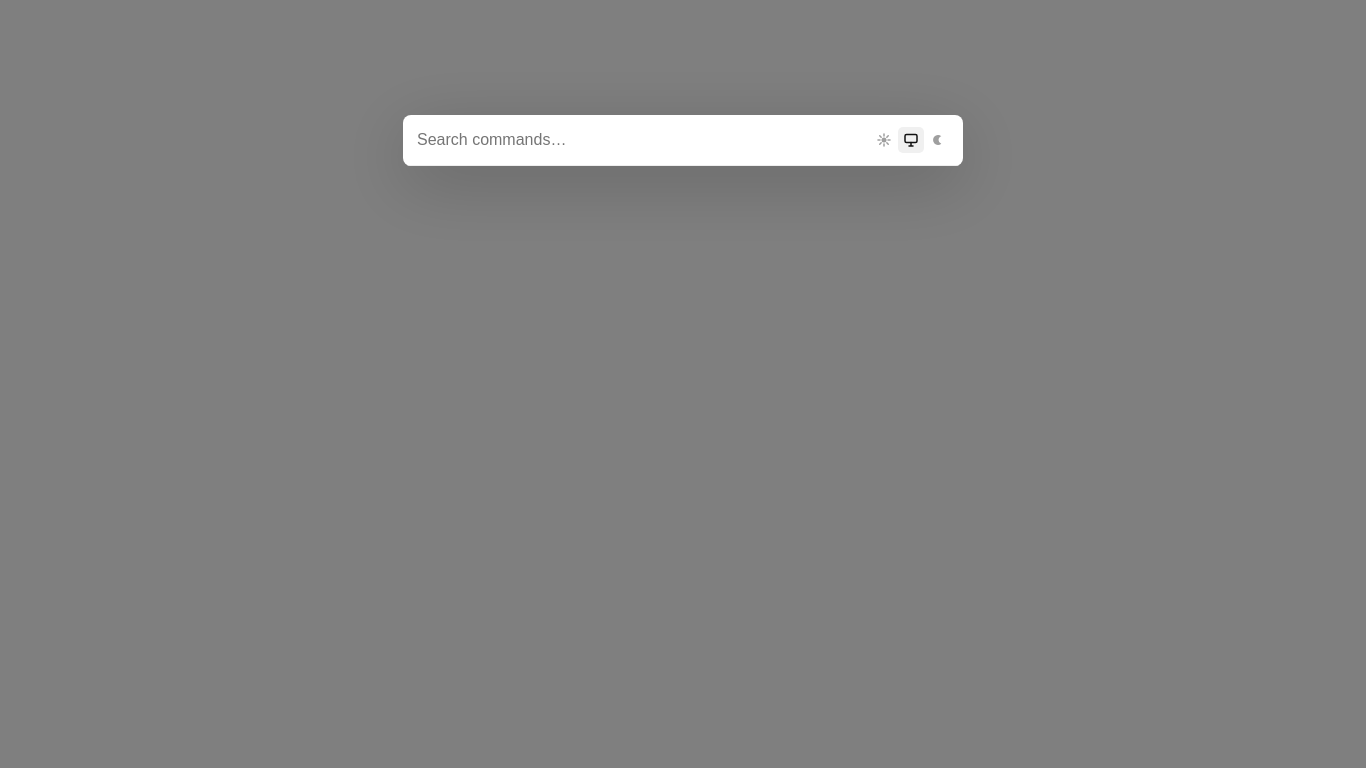
Scenario: CommandPalette › renders a command badge
In the dropdown with placeholder "Search commands…": (639, 140) [415,130,863,150], type "alpha"
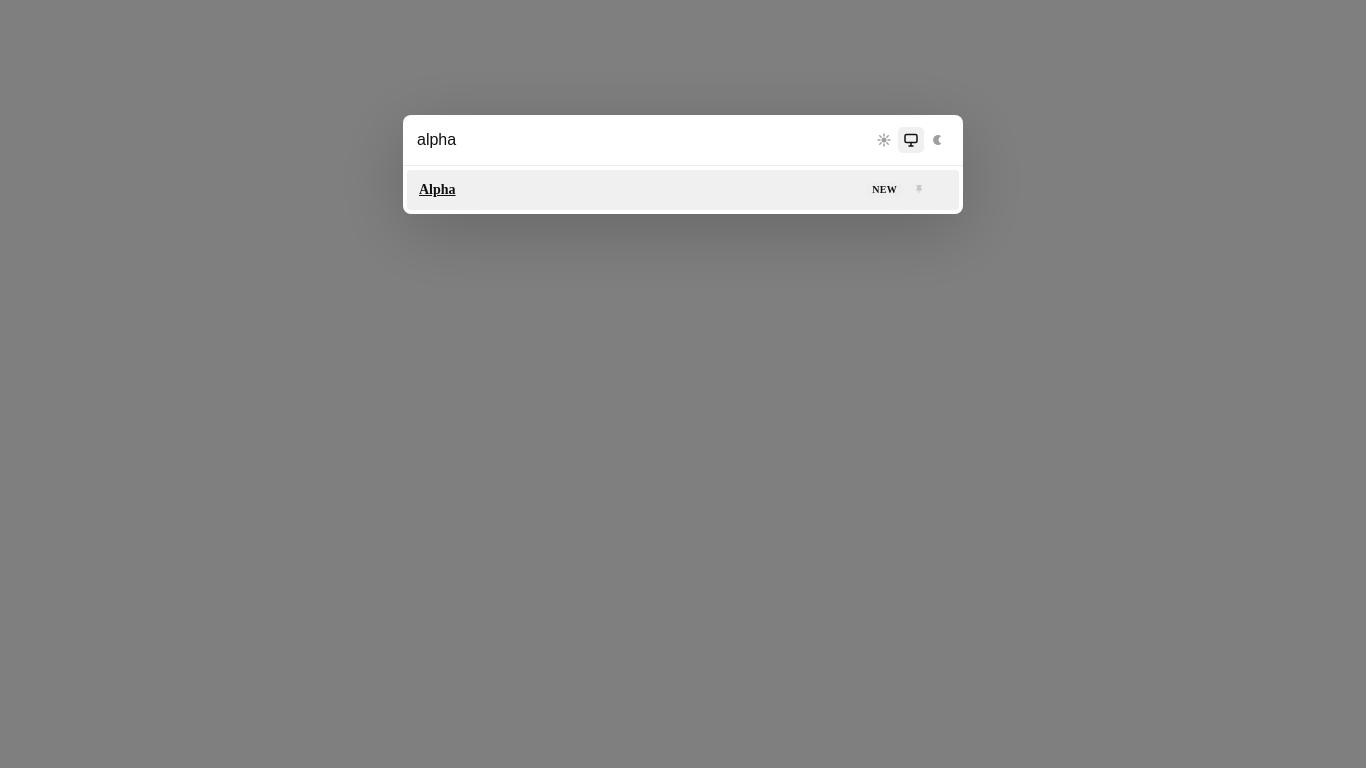
Expected: the text "New" is shown, [866,182,903,198]
